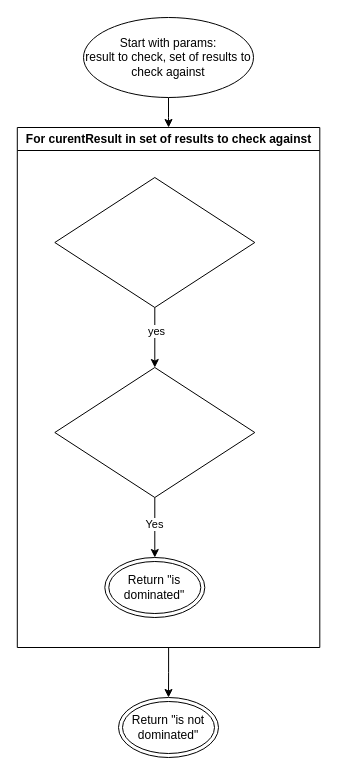
Some shapes in this 338 by 775 pixel diagram are drawn without their labels. The shapes that lost their labels are listed below. From the top down, each one's box as (x1, y1, x2, y2) in pixels, then its label:
(54, 176, 255, 308): currentResult <= result to check, in all objectives
(54, 366, 255, 498): currentResult != result to check
